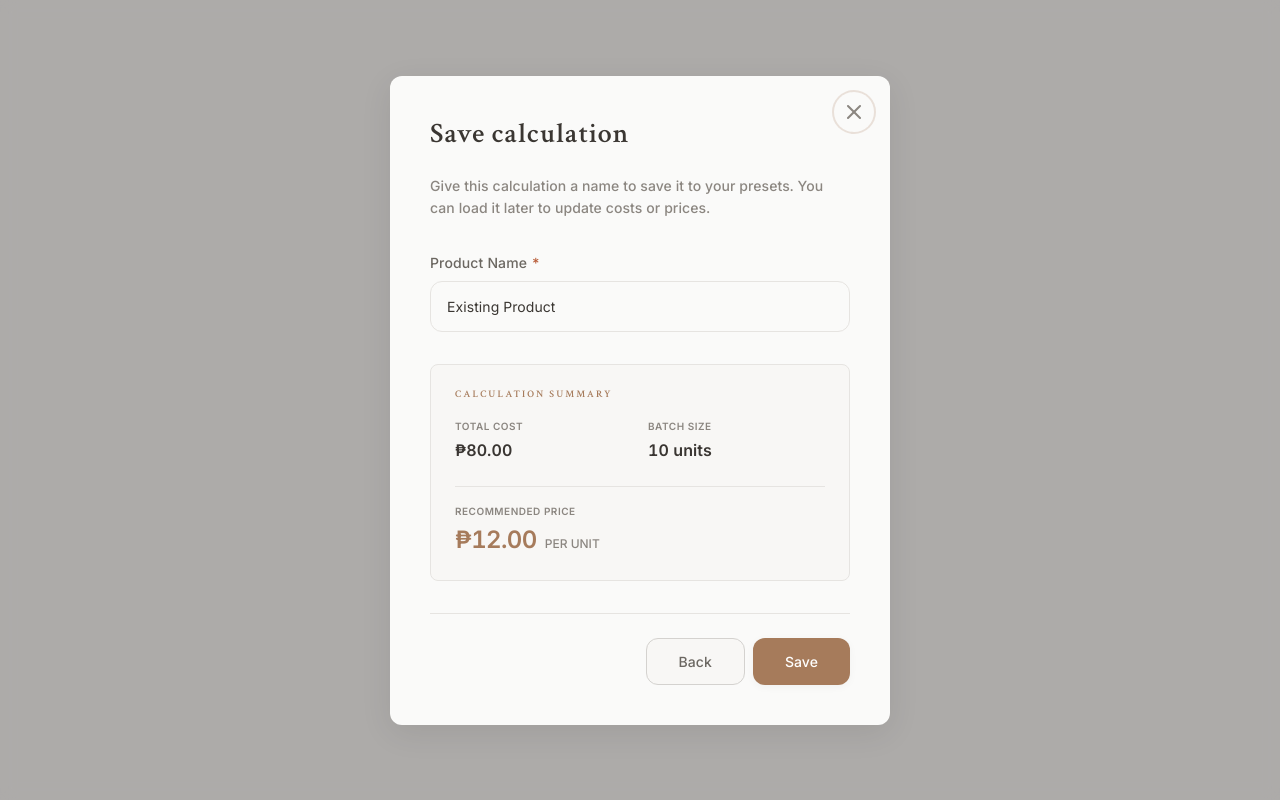
Test: SavePresetModal › validates duplicate names
The width and height of the screenshot is (1280, 800).
Click the button "Save" at [801, 661], box 753,638 -> 850,684
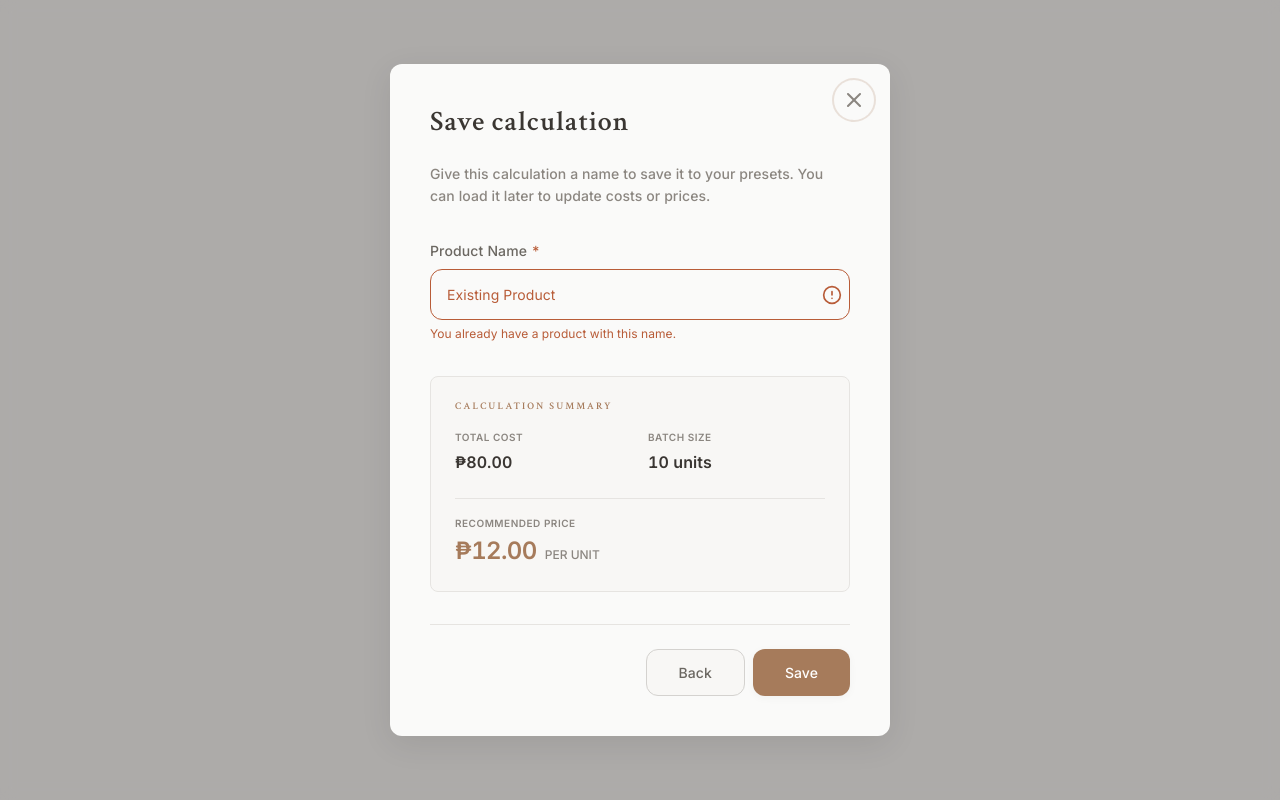
Expected: the text "You already have a product with this name." is shown, 430,326 -> 676,341
